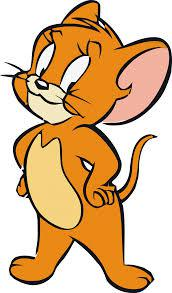jerry: (3, 1, 172, 292)
